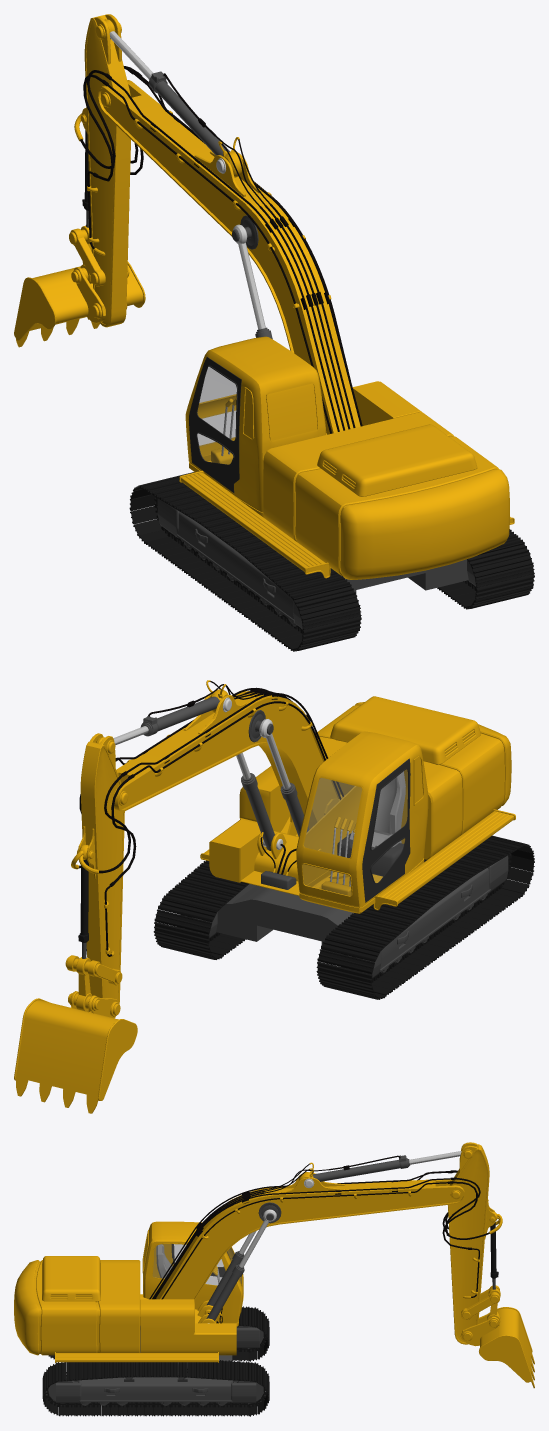
3 renders of one model, top to bottom at view 1: azimuth 30°, elevation 25°; view 2: azimuth 150°, elevation 25°; view 3: azimuth 270°, elevation 25°, orthographic. The views are drawn at different scales.
Visible parts, largest first — view 1: cngien_chamber, arm, cab, trake_shoe_assembly, arm_link, roller_chamber, bucket, trake_shoe_assembly001, boom_cylinder, bucket_link; view 2: cngien_chamber, cab, arm, trake_shoe_assembly, bucket, roller_chamber, arm_link, trake_shoe_assembly001, boom_cylinder, bucket_link, bucket_cylinder; view 3: cngien_chamber, arm, trake_shoe_assembly001, roller_chamber, arm_link, cab, bucket, boom_cylinder, bucket_link, trake_shoe_assembly, bucket_cylinder.
Part boxes in pixels (x1,y1,x2,y2): cngien_chamber: [179, 381, 514, 579]; arm: [84, 14, 360, 434]; cab: [185, 336, 326, 517]; trake_shoe_assembly: [129, 472, 361, 651]; arm_link: [74, 14, 362, 433]; roller_chamber: [157, 498, 475, 628]; bucket: [14, 261, 145, 347]; trake_shoe_assembly001: [437, 529, 534, 609]; boom_cylinder: [109, 31, 272, 339]; bucket_link: [69, 66, 143, 319]; cngien_chamber: [200, 696, 515, 910]; cab: [296, 731, 428, 913]; arm: [80, 691, 339, 1004]; trake_shoe_assembly: [316, 835, 534, 999]; bucket: [14, 991, 137, 1113]; roller_chamber: [195, 855, 508, 977]; arm_link: [71, 680, 343, 889]; trake_shoe_assembly001: [153, 860, 248, 959]; boom_cylinder: [113, 696, 309, 850]; bucket_link: [65, 777, 136, 1016]; bucket_cylinder: [78, 859, 88, 958]; cngien_chamber: [14, 1256, 236, 1362]; arm: [156, 1144, 489, 1344]; trake_shoe_assembly001: [42, 1360, 269, 1416]; roller_chamber: [56, 1326, 263, 1405]; arm_link: [149, 1142, 502, 1323]; cab: [142, 1221, 243, 1326]; bucket: [460, 1307, 534, 1388]; boom_cylinder: [206, 1151, 461, 1320]; bucket_link: [442, 1172, 500, 1340]; trake_shoe_assembly: [48, 1306, 269, 1361]; bucket_cylinder: [490, 1222, 498, 1289].
Size of the model in its own units: 307 by 471 by 924.
